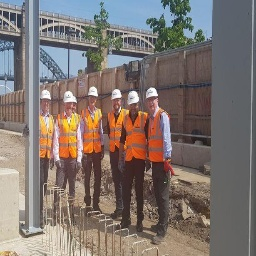person: (55, 91, 83, 223)
